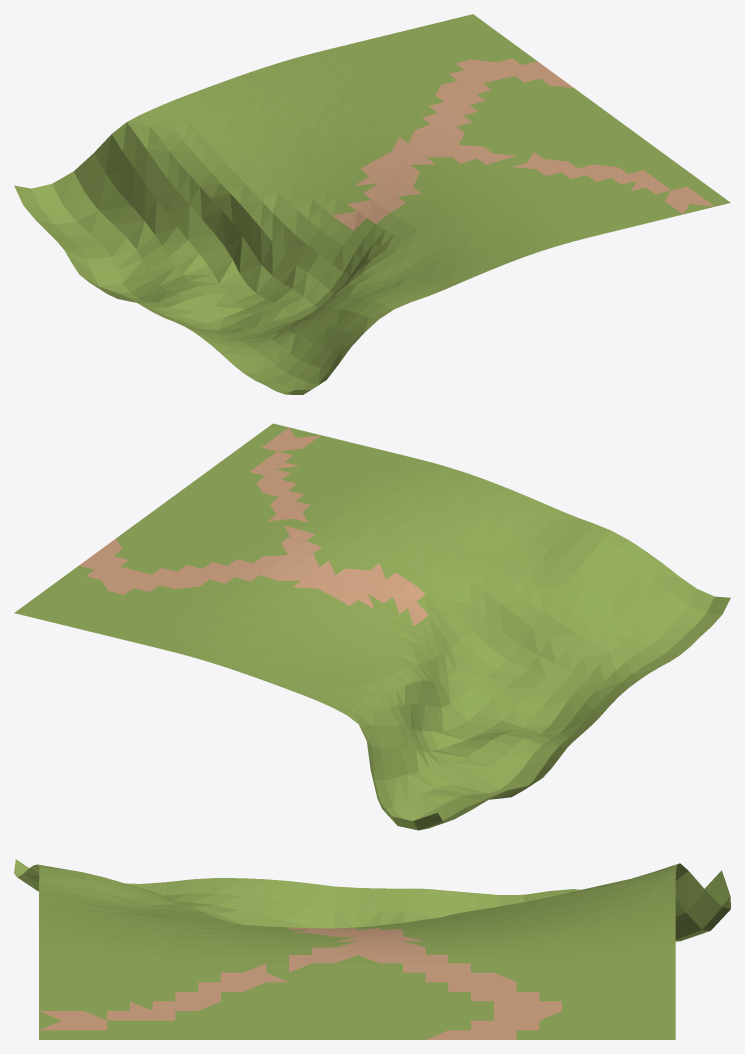
The model's file is terrainn.fbx.
3 renders of one model, top to bottom at view 1: azimuth 30°, elevation 25°; view 2: azimuth 150°, elevation 25°; view 3: azimuth 270°, elevation 25°, orthographic. The views are drawn at different scales.
Visible parts, largest first — view 1: Plane.023; view 2: Plane.023; view 3: Plane.023.
Boxes of the visible parts, x1,y1,x2,y2 form: Plane.023: (14,14,730,394); Plane.023: (14,423,730,830); Plane.023: (14,859,730,1039).
Size of the model in its own units: 153 by 40.39 by 169.
